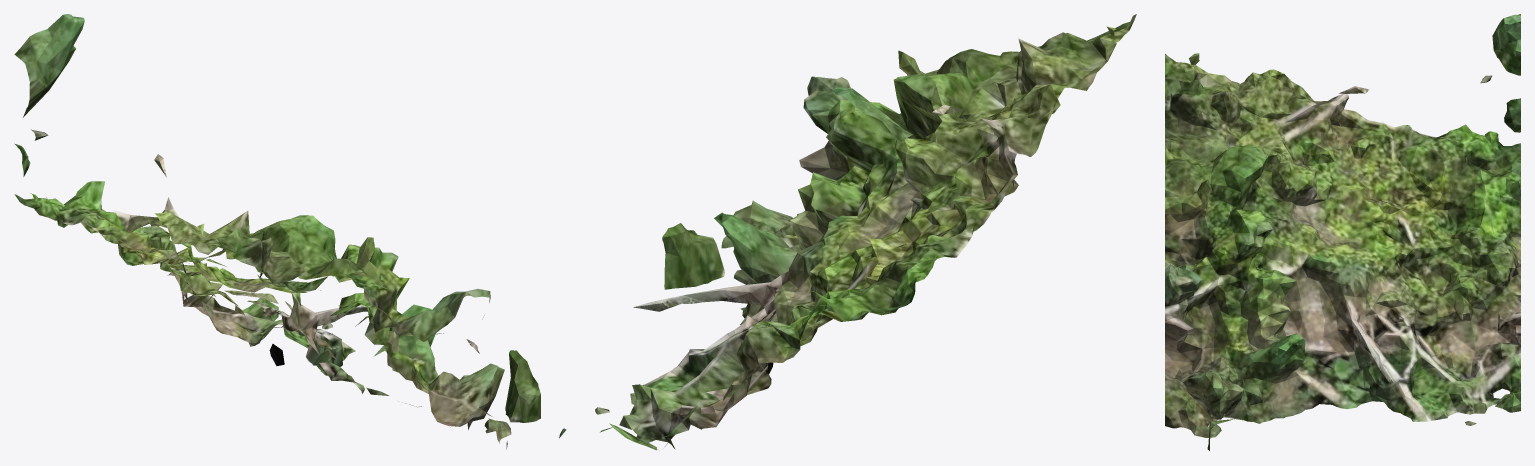
3 renders of one model, left to right at view 1: azimuth 30°, elevation 25°; view 2: azimuth 150°, elevation 25°; view 3: azimuth 270°, elevation 25°, orthographic. The views are drawn at different scales.
Size of the model in its own units: 2.95 by 2.81 by 2.95.
4 materials, 4 textured.
